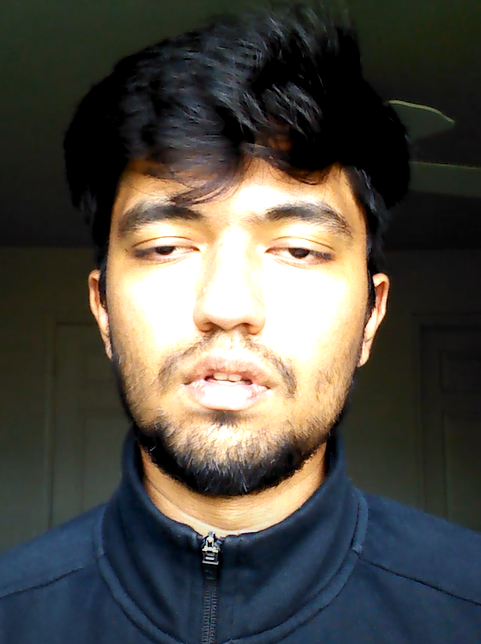Half Asleep: (110, 196, 361, 284)
